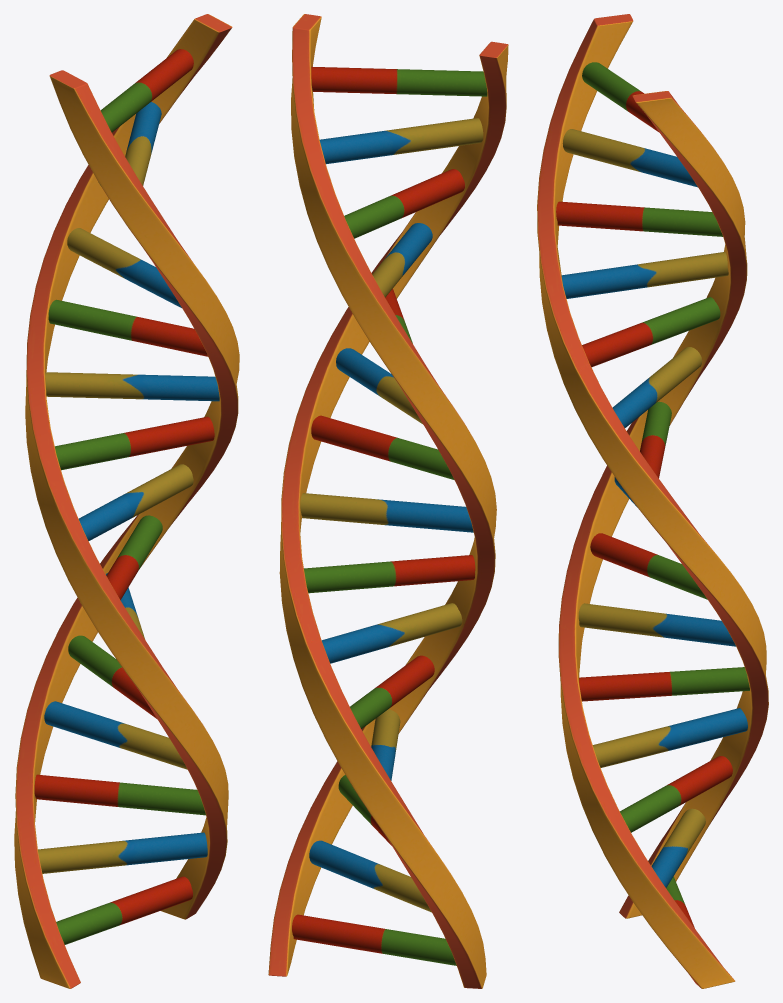
Rendered from dna.fbx.
The picture shows the model from 3 angles, left to right: view 1: azimuth 30°, elevation 25°; view 2: azimuth 150°, elevation 25°; view 3: azimuth 270°, elevation 25°; orthographic projection. The views are drawn at different scales.
Visible parts, largest first — view 1: node_id41; view 2: node_id41; view 3: node_id41.
Part boxes in pixels (left/top/right/bottom): node_id41: left=14, top=14, right=239, bottom=988; node_id41: left=268, top=14, right=508, bottom=988; node_id41: left=537, top=14, right=768, bottom=988.
Bounding box in the file's own units: 0.1098 × 0.5137 × 0.1209.
1 material, 1 textured.
